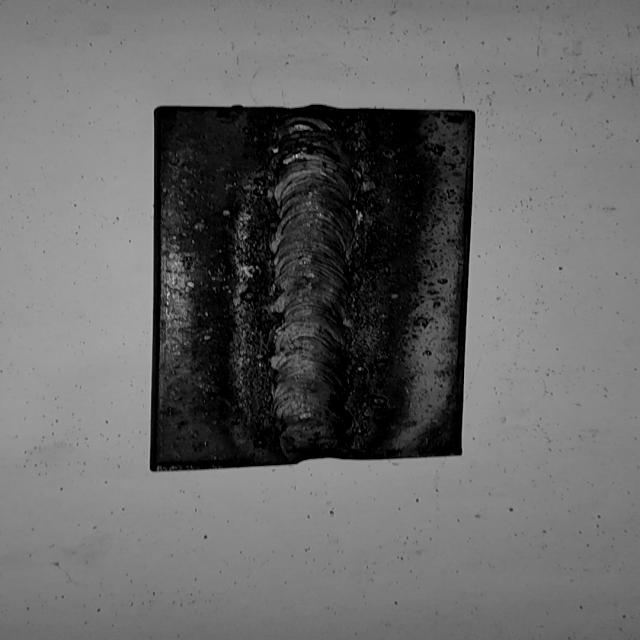Good Weld: (273, 115, 351, 456)
